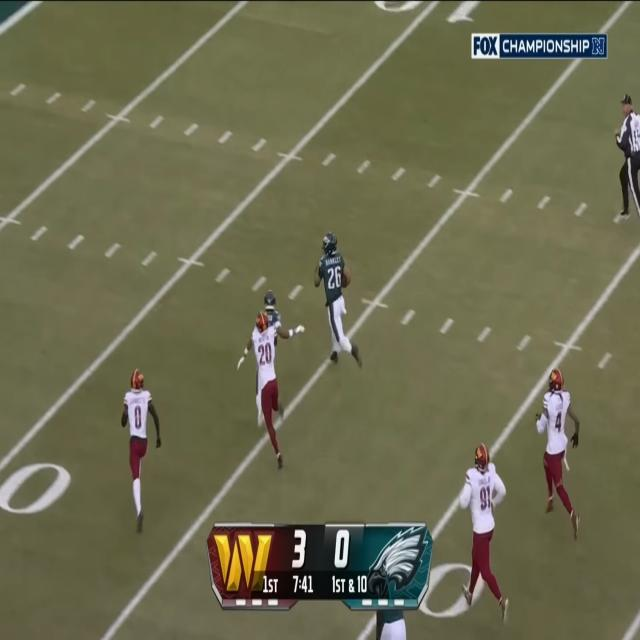Ball: (340, 274, 347, 286)
